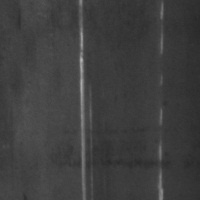scratches: (76, 1, 92, 200), (157, 48, 169, 200), (155, 1, 169, 60)
